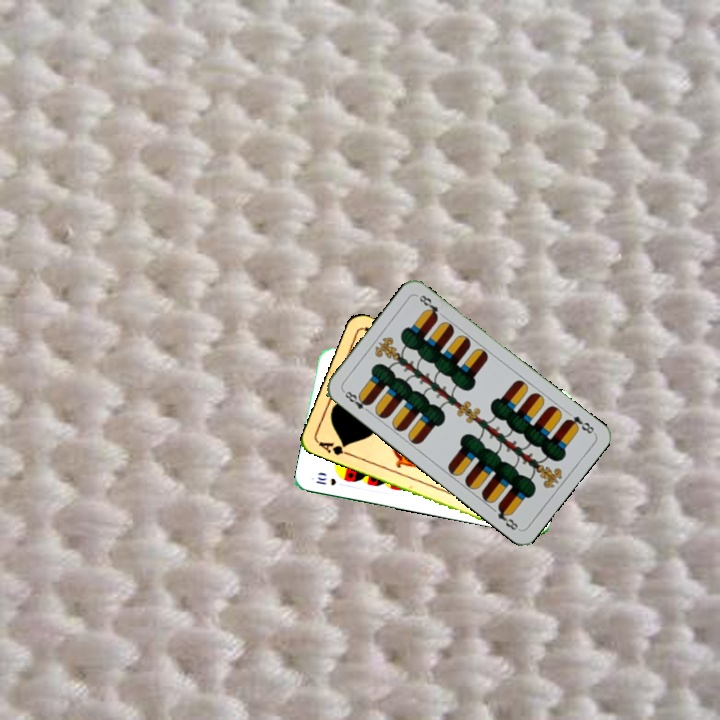E8: (339, 386, 373, 416), (561, 412, 597, 436)
GA: (314, 437, 354, 458)
S10: (312, 473, 339, 488)
